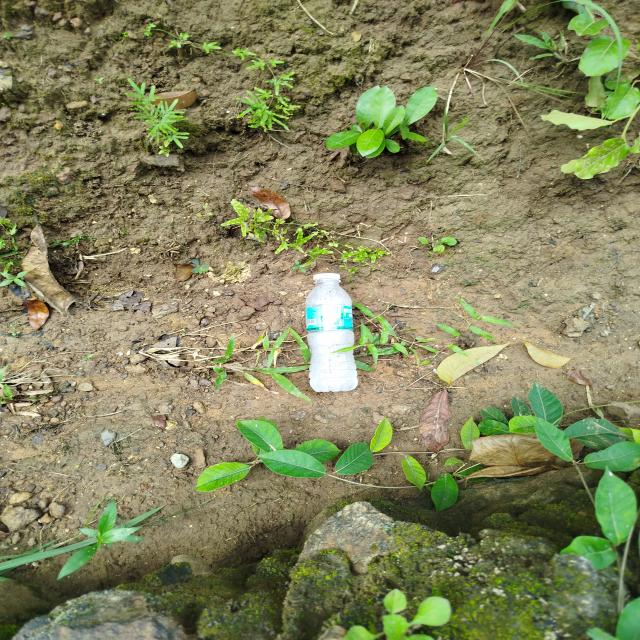plastic: (286, 260, 374, 410)
